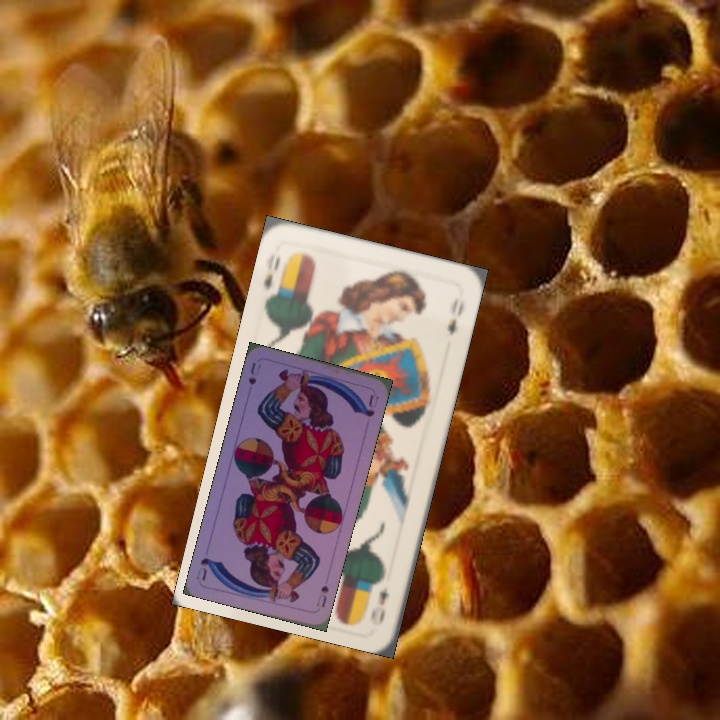EO: (259, 249, 292, 302), (366, 582, 392, 628)
SU: (244, 358, 264, 387), (312, 581, 331, 610)
